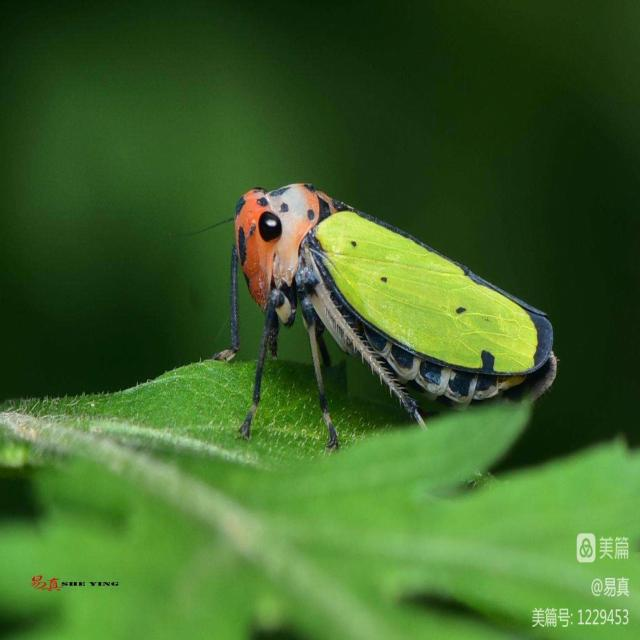Yechan: (217, 176, 568, 434)
